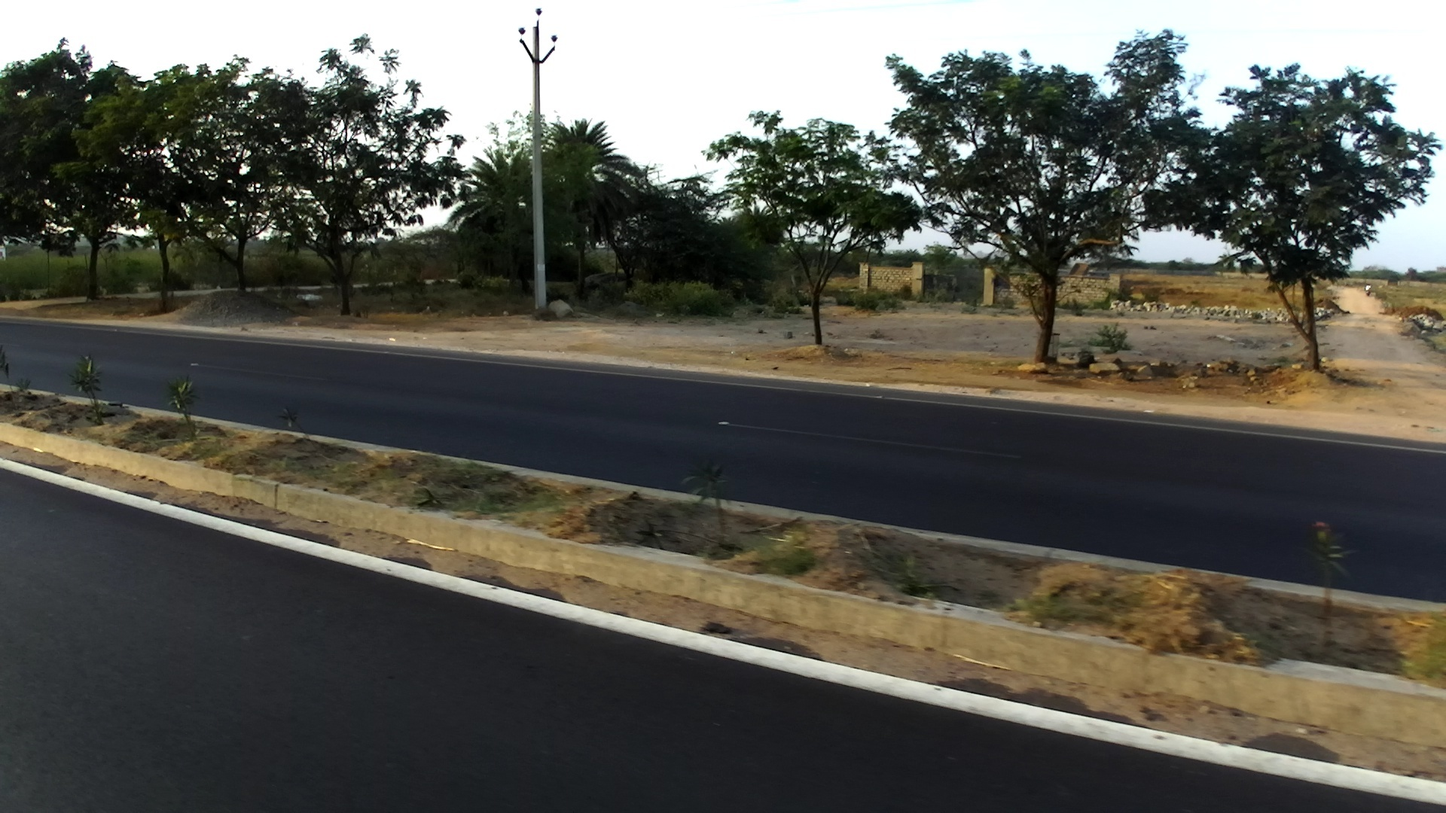motorcycle: (1365, 288, 1370, 297)
rider: (1365, 283, 1371, 294)
